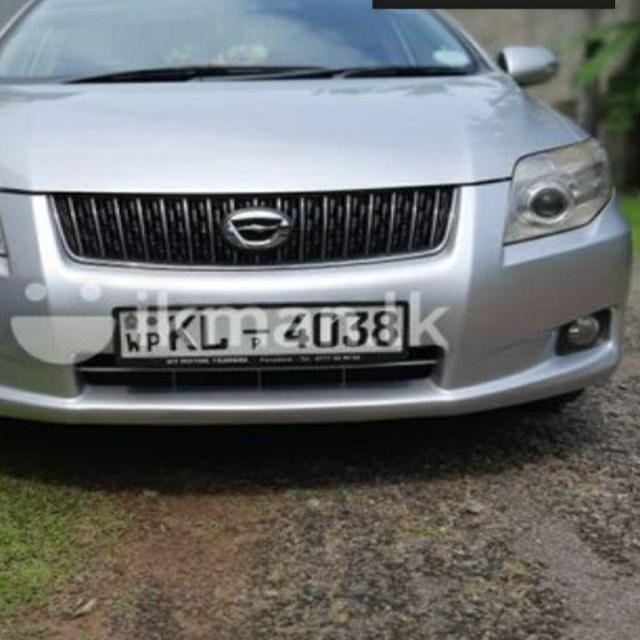license-plate: (118, 308, 403, 352)
